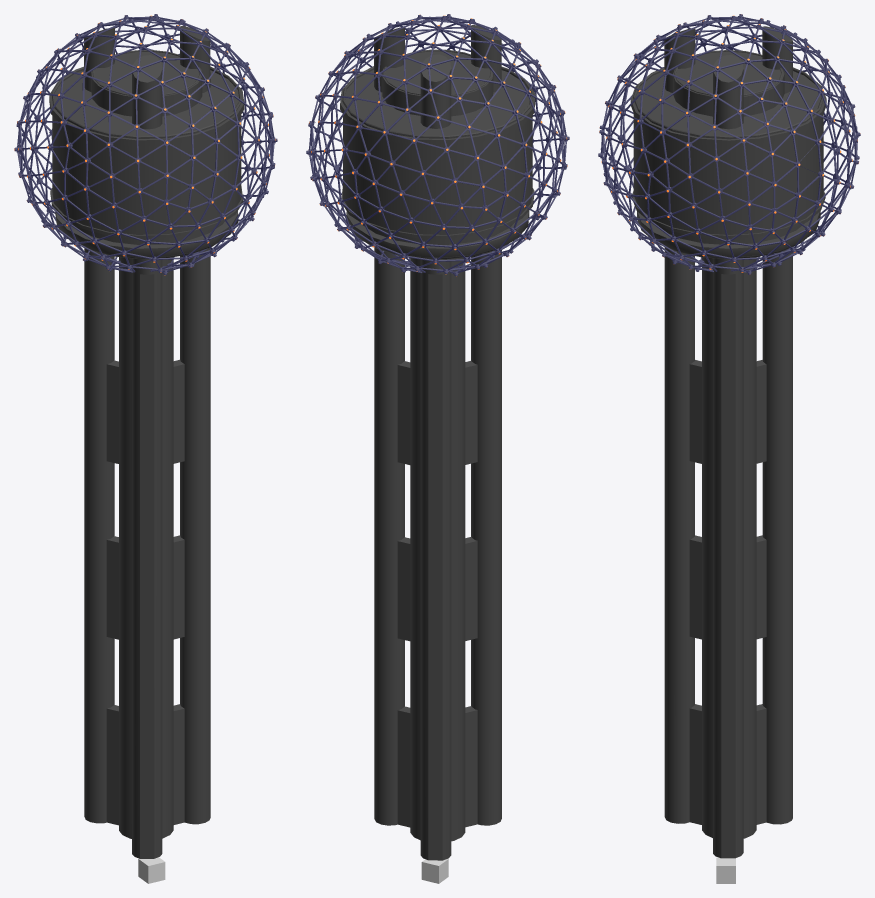
File: flat_model.glb
The picture shows the model from 3 angles, left to right: view 1: azimuth 30°, elevation 25°; view 2: azimuth 150°, elevation 25°; view 3: azimuth 270°, elevation 25°; orthographic projection.
Parts seen in each view (by area): view 1: MainRoom, CenterSupport, Support1, PlatonicSphere, Support3, Support2, Cube; view 2: MainRoom, CenterSupport, Support2, PlatonicSphere, Support1, Support3, Cube; view 3: MainRoom, CenterSupport, Support3, PlatonicSphere, Support2, Support1, Cube.
Boxes of the visible parts, <box> form: MainRoom: <box>49,50,244,258</box>; CenterSupport: <box>106,257,184,838</box>; Support1: <box>132,55,162,858</box>; PlatonicSphere: <box>17,16,274,272</box>; Support3: <box>180,26,210,824</box>; Support2: <box>84,27,114,823</box>; Cube: <box>138,857,165,883</box>; MainRoom: <box>340,49,535,259</box>; CenterSupport: <box>397,257,477,841</box>; Support2: <box>420,54,451,860</box>; PlatonicSphere: <box>309,16,566,273</box>; Support1: <box>471,25,501,825</box>; Support3: <box>374,27,404,825</box>; Cube: <box>421,858,448,883</box>; MainRoom: <box>630,50,826,259</box>; CenterSupport: <box>689,257,766,838</box>; Support3: <box>713,55,743,858</box>; PlatonicSphere: <box>601,16,857,272</box>; Support2: <box>762,26,792,824</box>; Support1: <box>664,28,695,823</box>; Cube: <box>716,857,735,883</box>.
Bounding box in the file's own units: 26.59 × 95.4 × 26.63.
5 materials, 3 textured.
